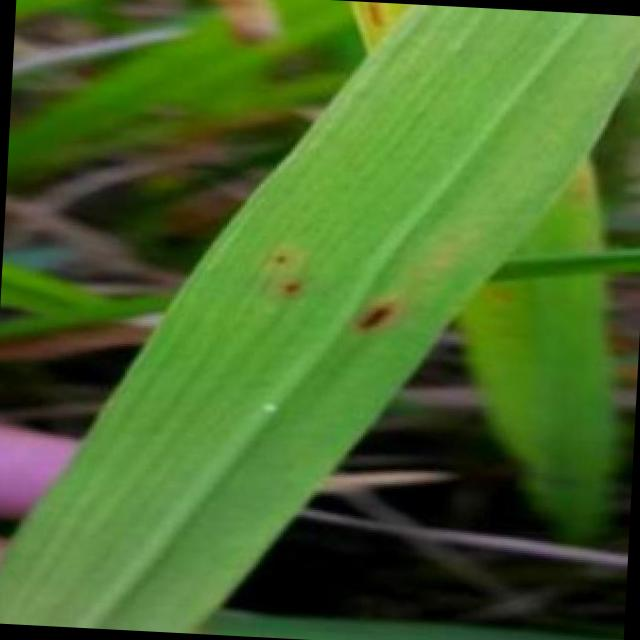Rice_Brownspot: (340, 288, 410, 342), (270, 268, 314, 300), (264, 247, 292, 270)
